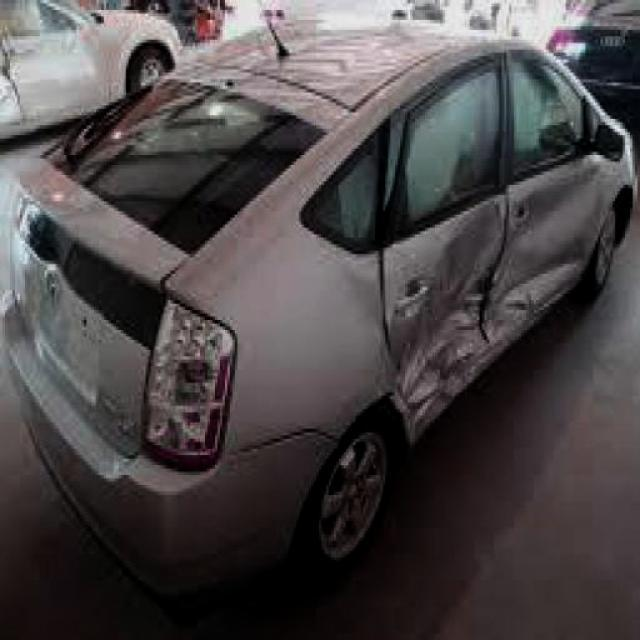car damage: (374, 175, 605, 449)
